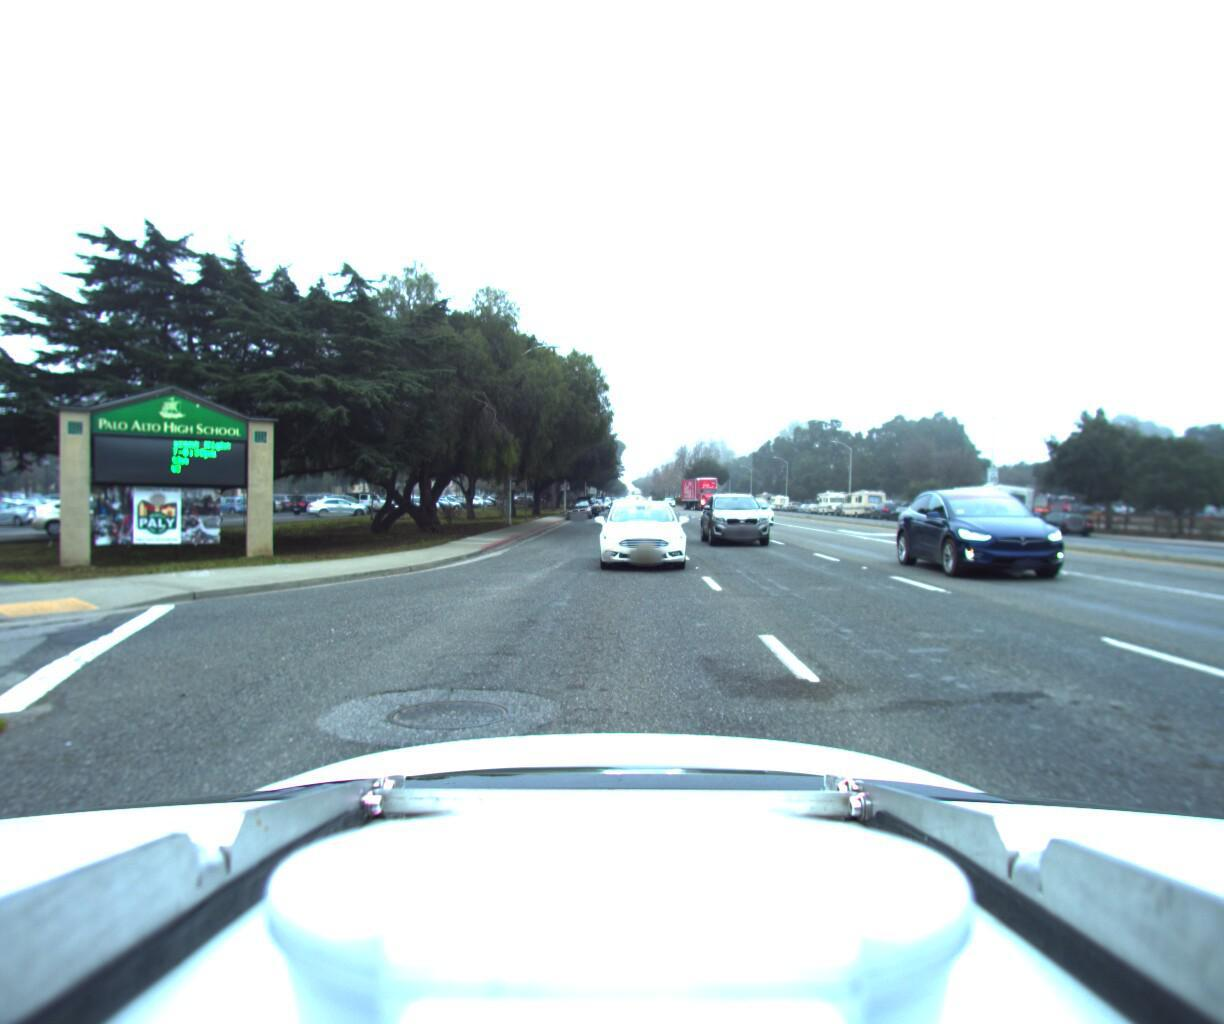car: (906, 474, 1138, 589), (591, 490, 690, 569), (697, 482, 782, 544), (1026, 504, 1100, 536), (733, 490, 786, 520), (604, 490, 640, 519), (563, 494, 592, 517), (883, 500, 920, 518), (862, 498, 892, 515)
other_vehicle: (942, 477, 1040, 533)
